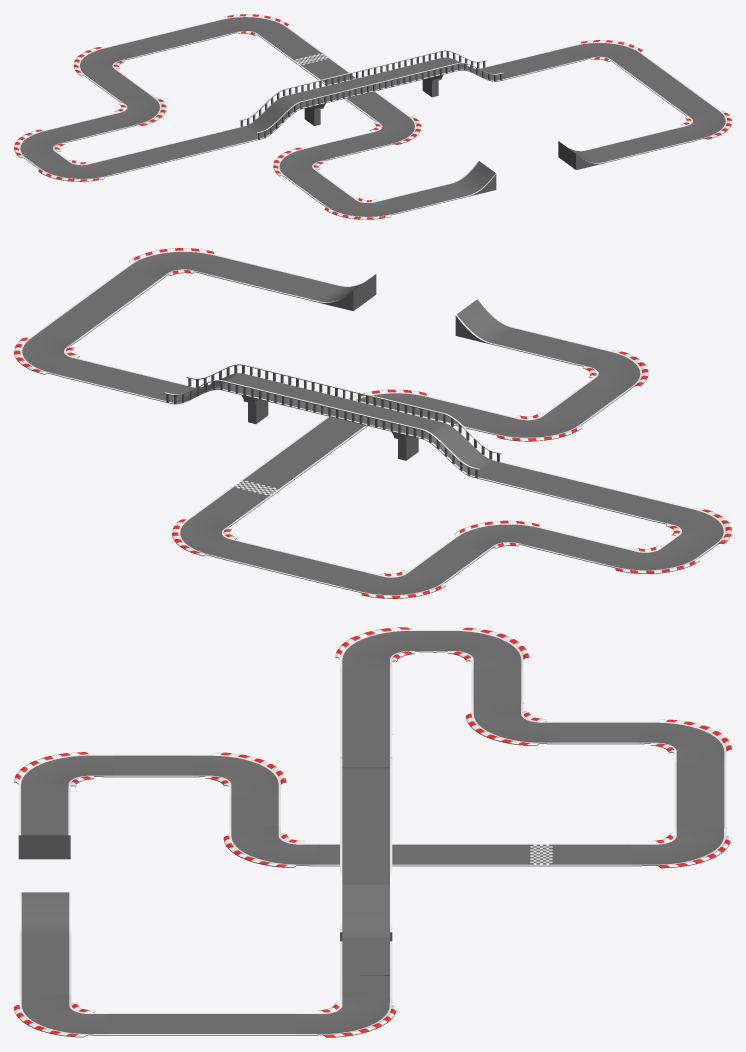
File: race-track.glb
3 renders of one model, top to bottom at view 1: azimuth 30°, elevation 25°; view 2: azimuth 150°, elevation 25°; view 3: azimuth 270°, elevation 25°, orthographic. The views are drawn at different scales.
Parts seen in each view (by area): view 1: Cube.003, Cube.007, Cube.025, Cube.011, Cube.010, Cube.015, Cube.001, Cube.021, Cube.023, Cube.013, Cube.006, Cube.017 (+19 smaller); view 2: Cube.003, Cube.013, Cube.023, Cube.006, Cube.015, Cube.001, Cube.011, Cube.025, Cube.010, Cube.007, Cube.017, Cube.002 (+20 smaller); view 3: Cube.003, Cube.010, Cube.007, Cube.015, Cube.002, Cube.006, Cube.001, Cube.011, Cube.021, Cube.025, Cube.013, Cube.023 (+19 smaller).
Boxes of the visible parts, x1,y1,x2,y2 form: Cube.003: [193, 50, 550, 151]; Cube.007: [31, 155, 116, 181]; Cube.025: [317, 193, 402, 219]; Cube.011: [211, 14, 295, 40]; Cube.010: [564, 40, 649, 66]; Cube.015: [670, 106, 731, 142]; Cube.001: [105, 93, 166, 129]; Cube.021: [360, 112, 421, 147]; Cube.023: [273, 145, 334, 181]; Cube.013: [73, 44, 135, 80]; Cube.006: [14, 127, 75, 163]; Cube.017: [432, 160, 496, 200]; Cube.003: [105, 364, 560, 493]; Cube.013: [341, 567, 452, 598]; Cube.023: [477, 410, 588, 441]; Cube.006: [595, 543, 706, 573]; Cube.015: [122, 248, 232, 279]; Cube.001: [448, 520, 558, 551]; Cube.011: [172, 512, 244, 559]; Cube.025: [575, 348, 648, 394]; Cube.010: [14, 330, 86, 377]; Cube.007: [658, 505, 731, 552]; Cube.017: [455, 298, 537, 350]; Cube.002: [294, 274, 376, 311]; Cube.003: [340, 733, 392, 975]; Cube.010: [296, 997, 396, 1037]; Cube.007: [335, 627, 435, 667]; Cube.015: [14, 994, 107, 1037]; Cube.002: [19, 892, 71, 948]; Cube.006: [435, 627, 528, 670]; Cube.001: [466, 703, 559, 745]; Cube.011: [631, 828, 731, 868]; Cube.021: [223, 825, 317, 867]; Cube.025: [14, 752, 114, 791]; Cube.013: [638, 719, 731, 761]; Cube.023: [192, 752, 286, 794].
Size of the model in its own units: 534 by 27.74 by 395.
